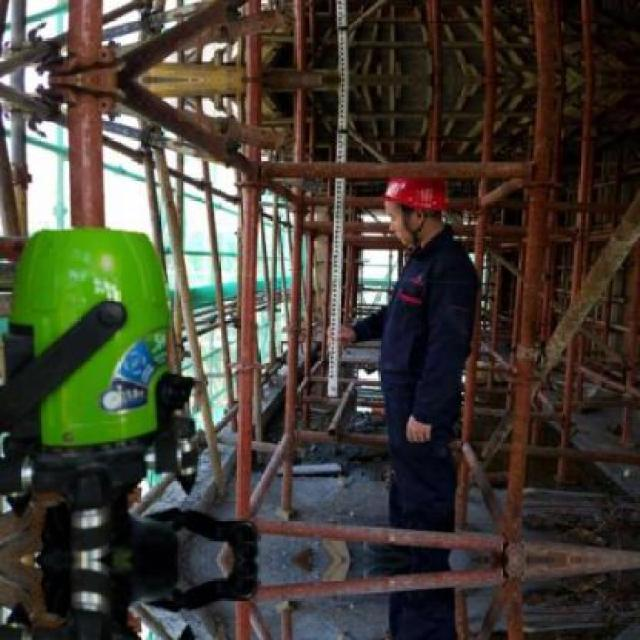helmet: (379, 173, 446, 242)
